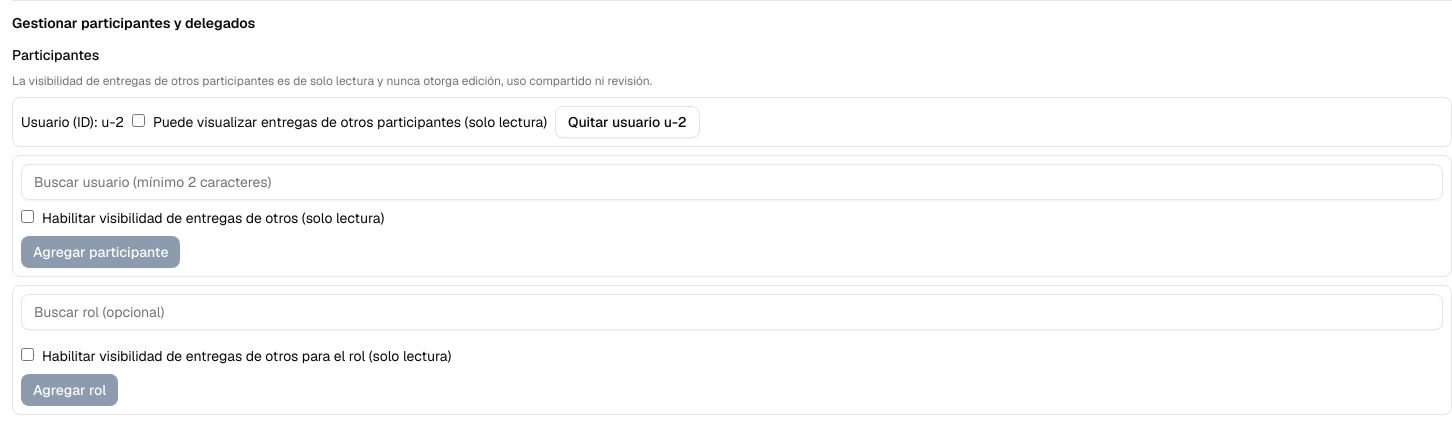
Test: cancels a pending participant removal without mutating
Click the button "Quitar usuario u-2".
click(627, 122)  # box [555,106,700,138]
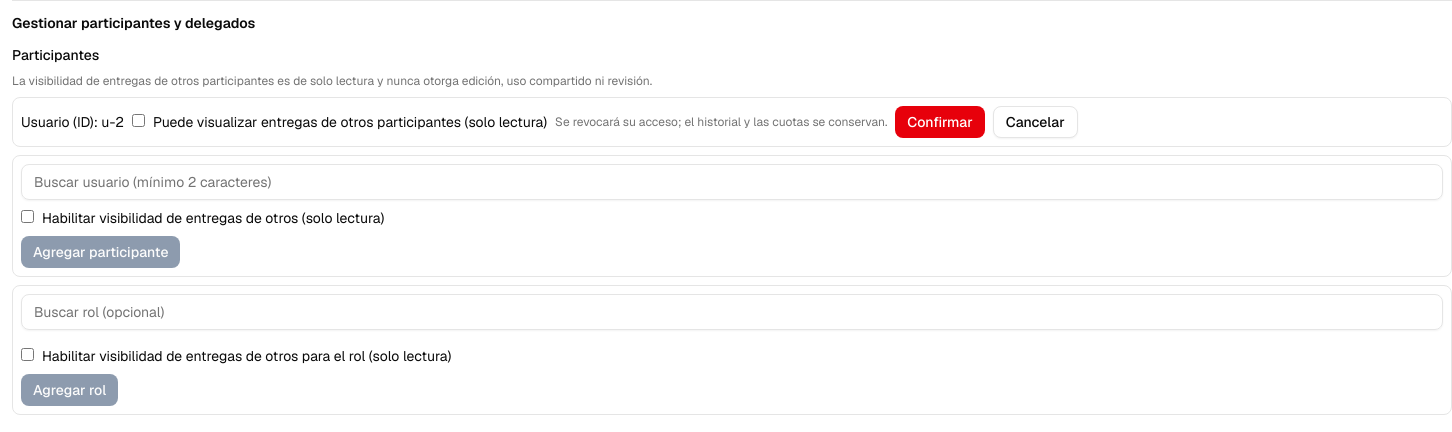
Click the button "Cancelar".
click(1035, 122)  # box [993,106,1078,138]
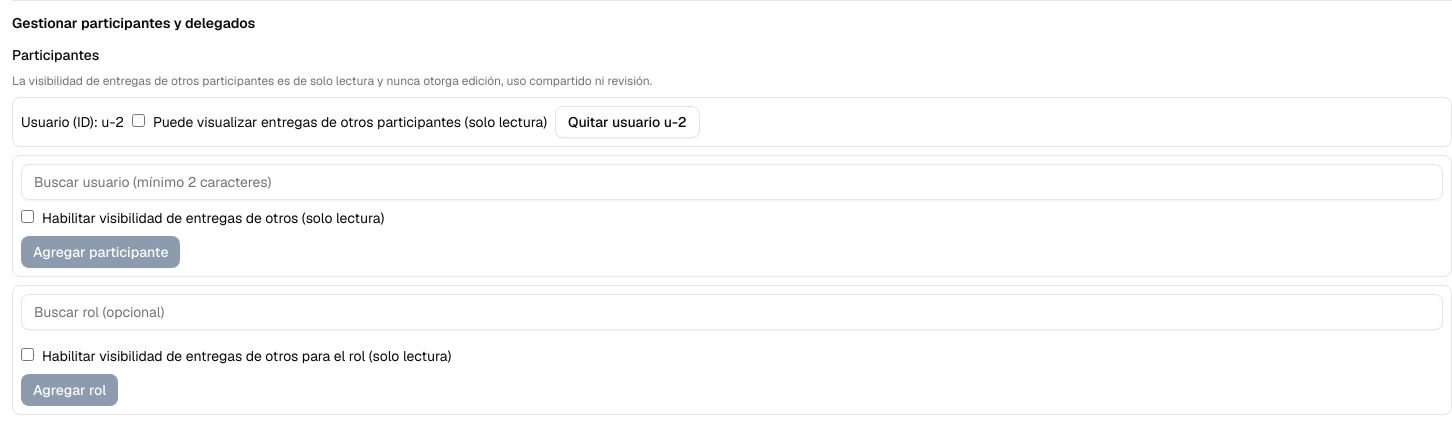
Expected: the button "Quitar usuario u-2" is shown, [555,106,700,138]
